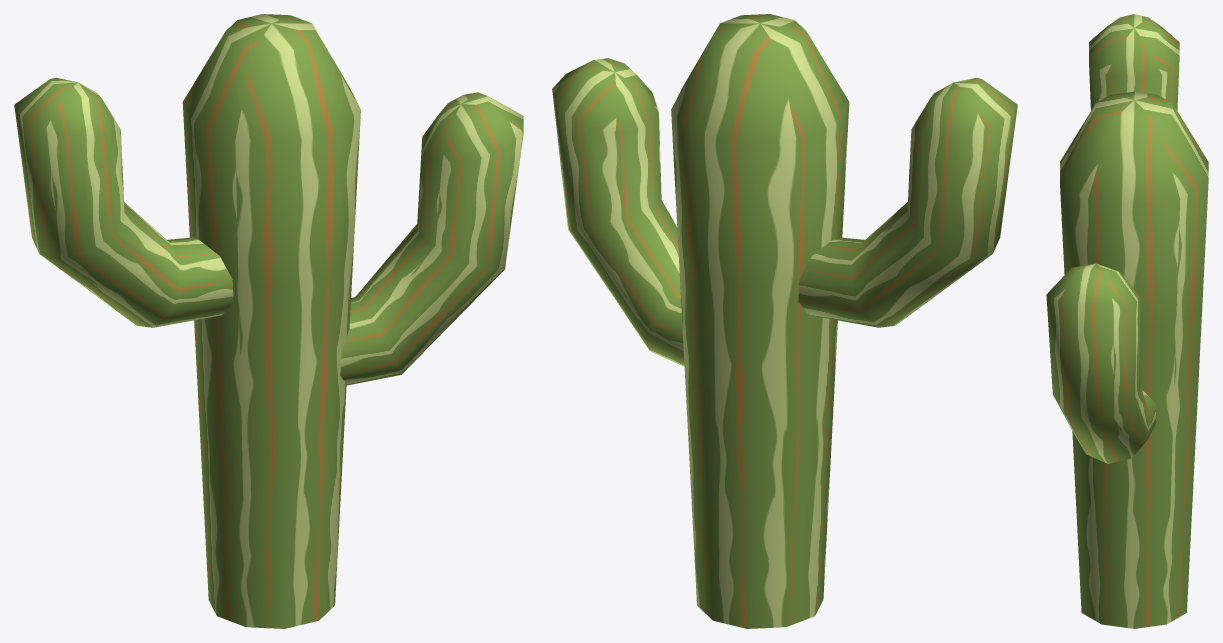
File: cactus01.FBX
3 renders of one model, left to right at view 1: azimuth 30°, elevation 25°; view 2: azimuth 150°, elevation 25°; view 3: azimuth 270°, elevation 25°, orthographic. The views are drawn at different scales.
Visible parts, largest first — view 1: cactus01, kqtus01, kqtus02; view 2: cactus01, kqtus01, kqtus02; view 3: cactus01, kqtus02, kqtus01.
Part boxes in pixels (box(x1,y1,x2,y2)): cactus01: box(182, 14, 360, 628); kqtus01: box(14, 77, 233, 327); kqtus02: box(340, 92, 523, 385); cactus01: box(671, 14, 849, 628); kqtus01: box(798, 77, 1017, 327); kqtus02: box(552, 58, 684, 366); cactus01: box(1060, 91, 1208, 628); kqtus02: box(1046, 263, 1156, 463); kqtus01: box(1089, 14, 1179, 110).
Size of the model in its own units: 298 by 348 by 101.
